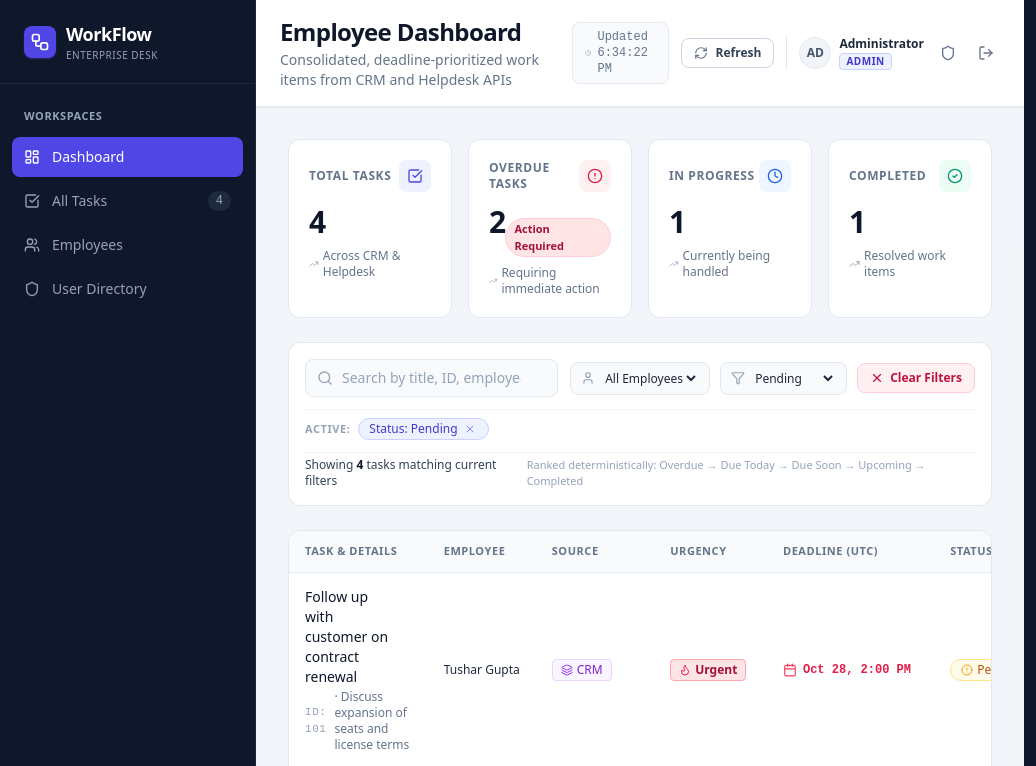
Test: Employee Task Dashboard - Step 6 Full Specification Suite › 18. retains existing task list and displays refresh error banner if background refresh fails
# Trigger refresh button
Click the button with aria-label "Refresh tasks feed": [728, 53] box [681,38,774,68]
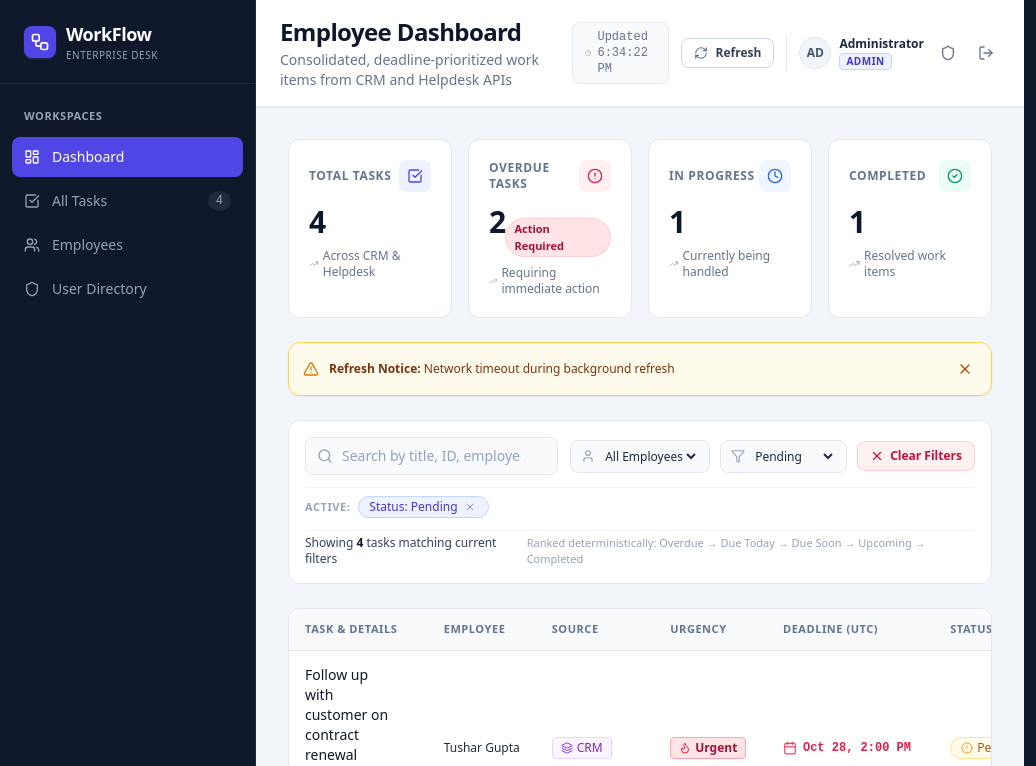
Check: the text "Refresh Notice:" is shown, box [329,360,421,377]
Check: the text "Refresh Notice: Network timeout during background refresh" is shown, box [329,361,675,377]
